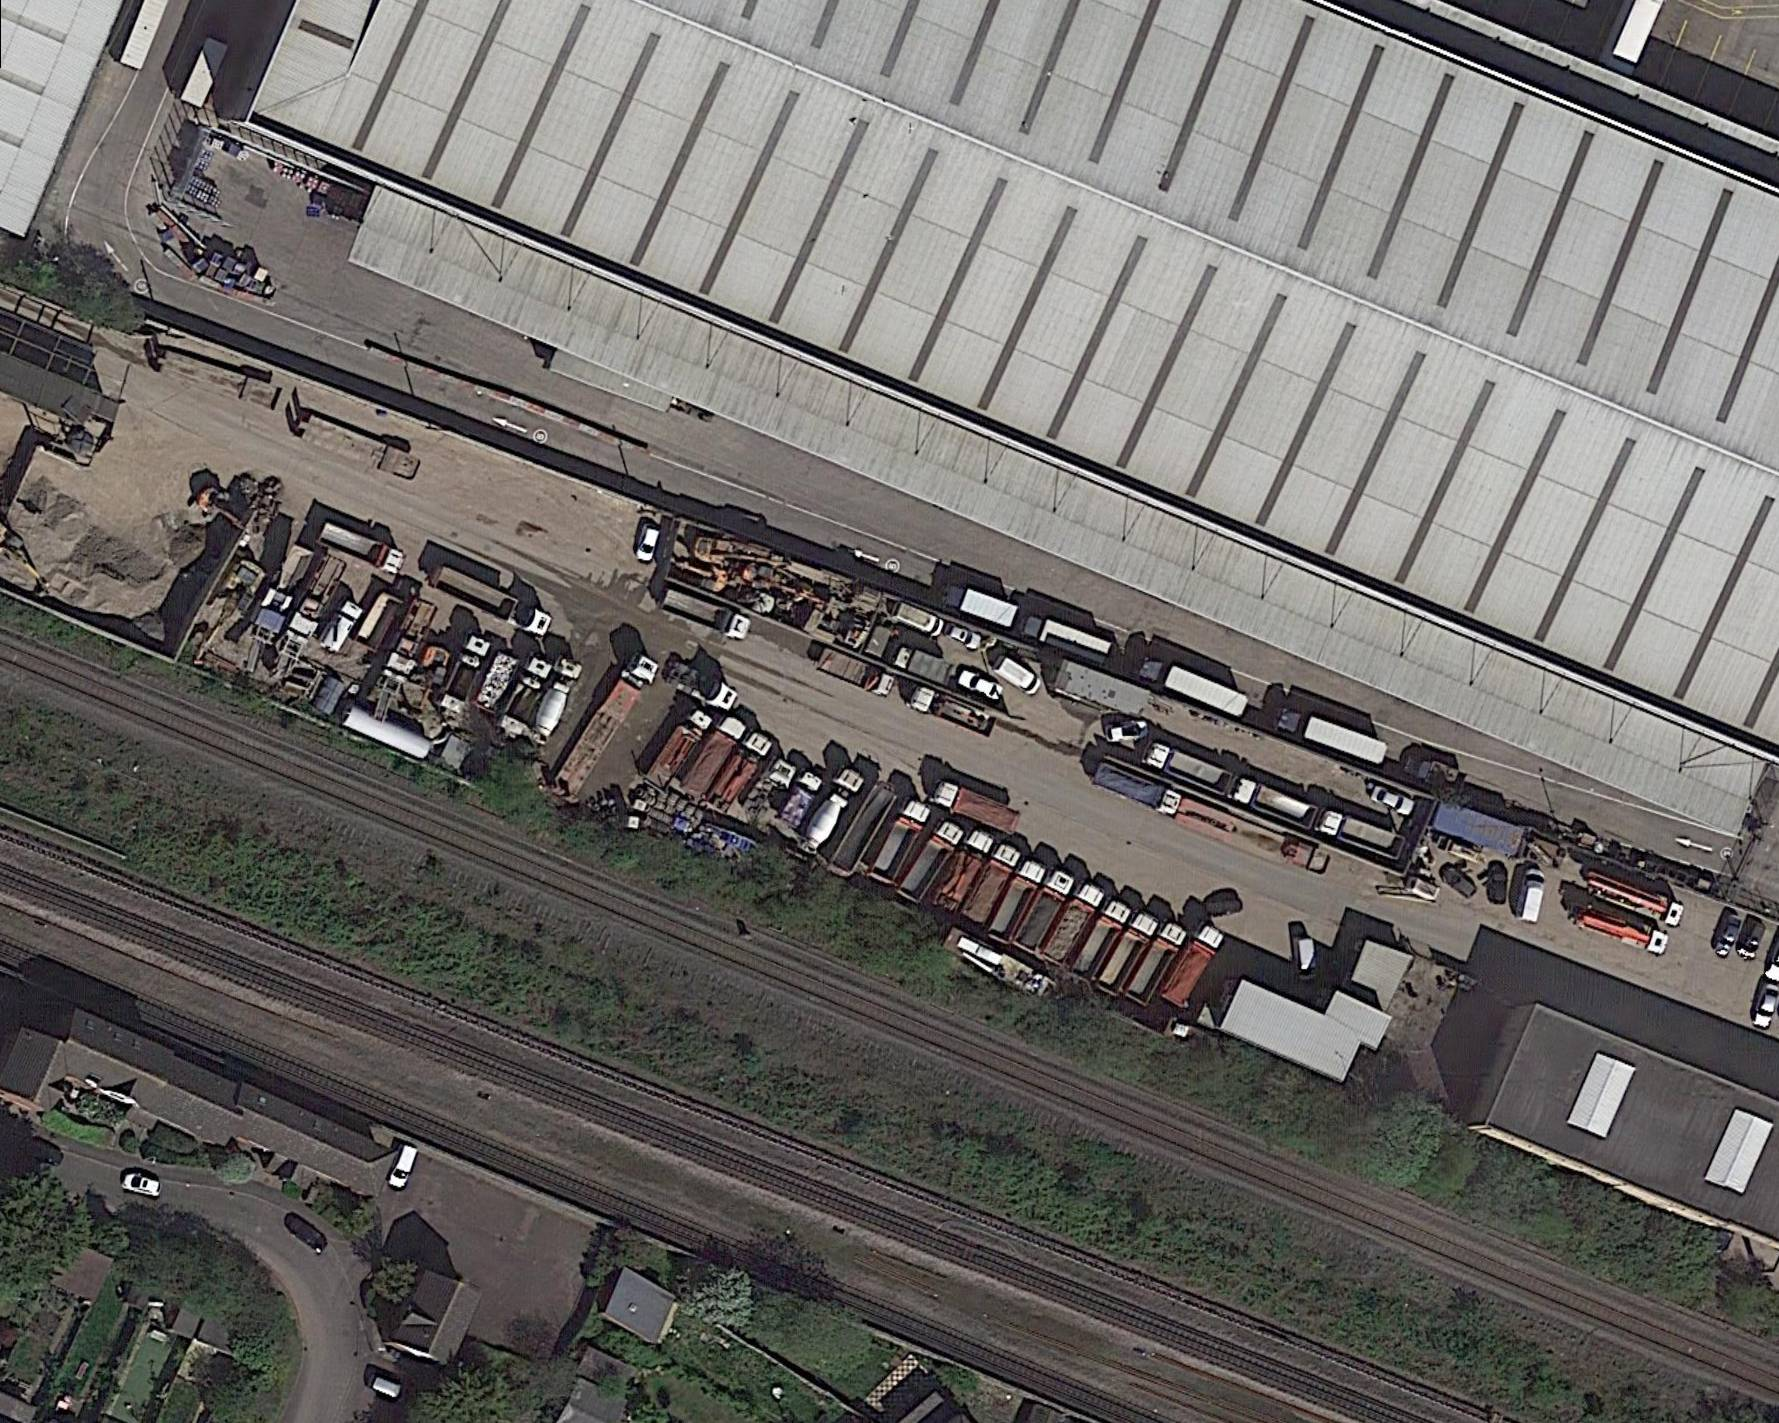large vehicle: (545, 648, 664, 804), (1171, 796, 1335, 877), (940, 922, 1063, 1009), (426, 560, 558, 640), (1131, 652, 1252, 725), (1271, 703, 1390, 770), (791, 761, 868, 860), (672, 711, 749, 809), (924, 823, 1001, 921), (1038, 874, 1110, 974), (864, 791, 937, 889), (640, 704, 717, 796), (700, 726, 777, 817), (956, 838, 1027, 937), (1091, 906, 1165, 1000), (1579, 865, 1688, 929), (1120, 918, 1192, 1012), (895, 815, 969, 906), (1564, 899, 1672, 960), (282, 552, 350, 648), (1067, 892, 1136, 987), (1157, 919, 1227, 1012), (985, 852, 1051, 948), (1012, 863, 1078, 960), (927, 775, 1025, 839), (253, 542, 318, 637), (1139, 735, 1234, 799), (1017, 608, 1114, 671), (526, 651, 587, 748), (1089, 759, 1186, 820), (378, 594, 441, 685), (1226, 772, 1322, 833), (656, 584, 754, 643), (906, 681, 1001, 742), (315, 518, 410, 578), (494, 652, 556, 741), (436, 627, 494, 719), (659, 652, 744, 714), (1314, 806, 1409, 861), (813, 645, 896, 701), (940, 579, 1021, 632), (775, 767, 828, 833), (315, 594, 367, 655), (890, 643, 958, 690), (890, 597, 948, 640)
small vehicle: (280, 1211, 334, 1257), (990, 653, 1043, 698), (1515, 865, 1548, 925), (385, 1141, 420, 1191), (956, 668, 1005, 703), (1709, 913, 1744, 960), (1441, 865, 1480, 903), (1737, 919, 1767, 964), (1291, 935, 1319, 982), (1104, 719, 1150, 743), (121, 1173, 164, 1199), (1489, 865, 1509, 905)
